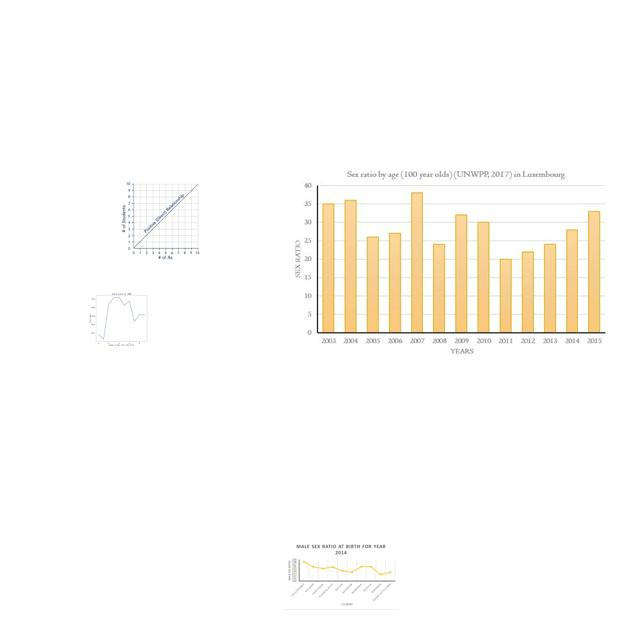Graph: (292, 166, 611, 361), (284, 541, 398, 610), (121, 180, 201, 260), (77, 288, 164, 348)
